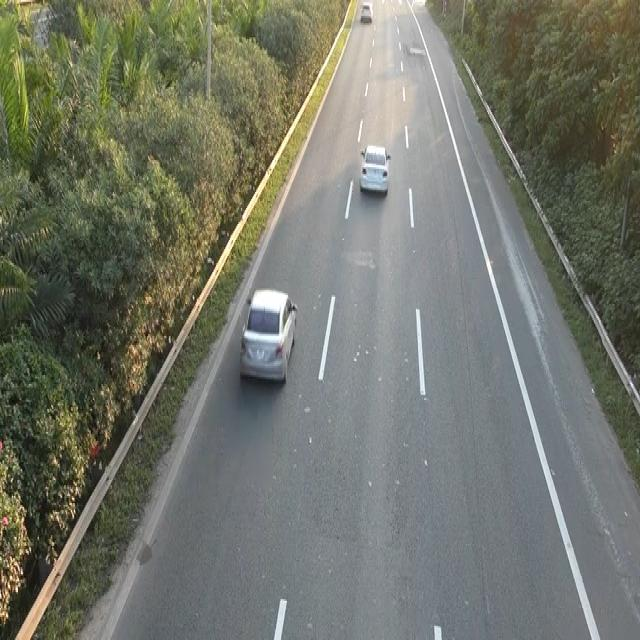bus: (237, 284, 299, 386), (358, 140, 391, 196)
